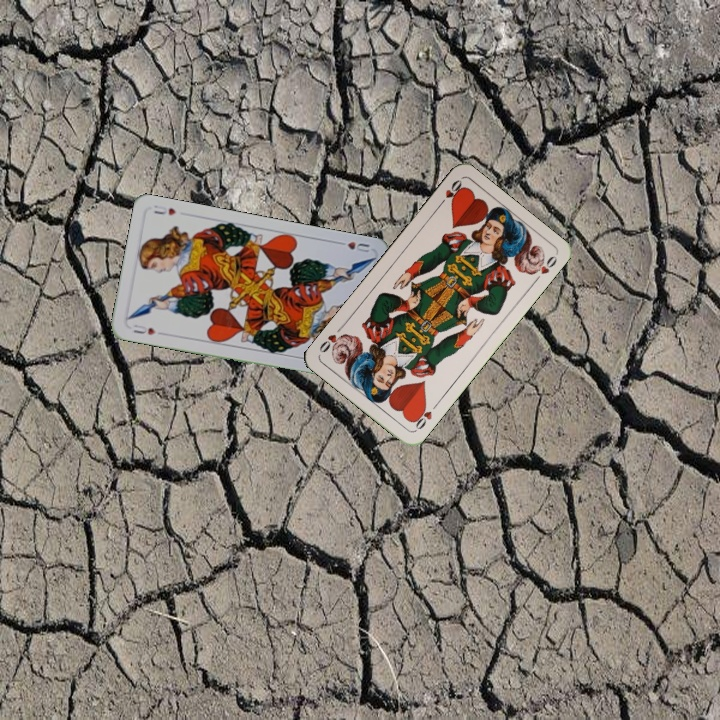HO: (408, 399, 441, 433), (434, 175, 466, 210)
HU: (333, 237, 373, 255), (129, 320, 158, 337)
